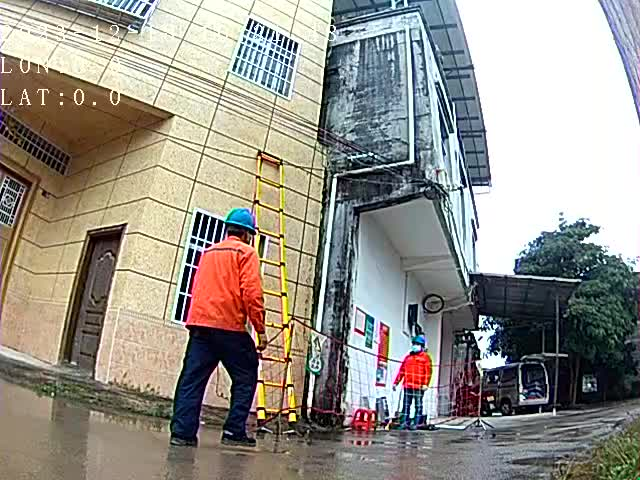downcloth: (173, 334, 262, 436)
halt: (222, 207, 257, 244), (413, 335, 428, 351)
hand: (255, 329, 269, 353)
person: (170, 206, 267, 447), (391, 332, 435, 430)
yupsuit: (188, 240, 261, 330), (397, 353, 429, 387)
